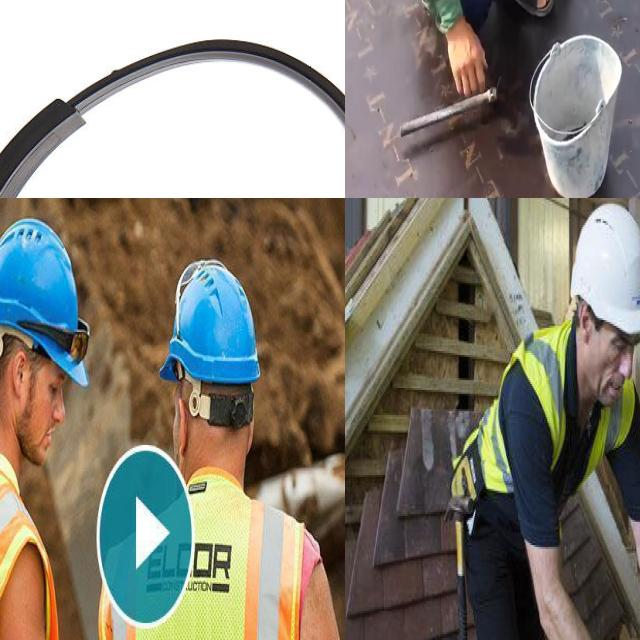Ear-protection: (0, 24, 345, 198)
No_Ear-Protection: (172, 392, 190, 459), (11, 344, 28, 404), (576, 296, 594, 347)
face_nomask: (24, 348, 69, 462), (592, 314, 640, 407)
hand_noglove: (444, 18, 491, 98)
head_helmet: (0, 206, 95, 382), (153, 239, 258, 380), (571, 199, 640, 339)
person: (98, 200, 345, 640), (469, 204, 640, 640), (0, 198, 93, 640)
vest: (115, 476, 322, 640), (475, 322, 632, 500), (0, 428, 54, 640)
